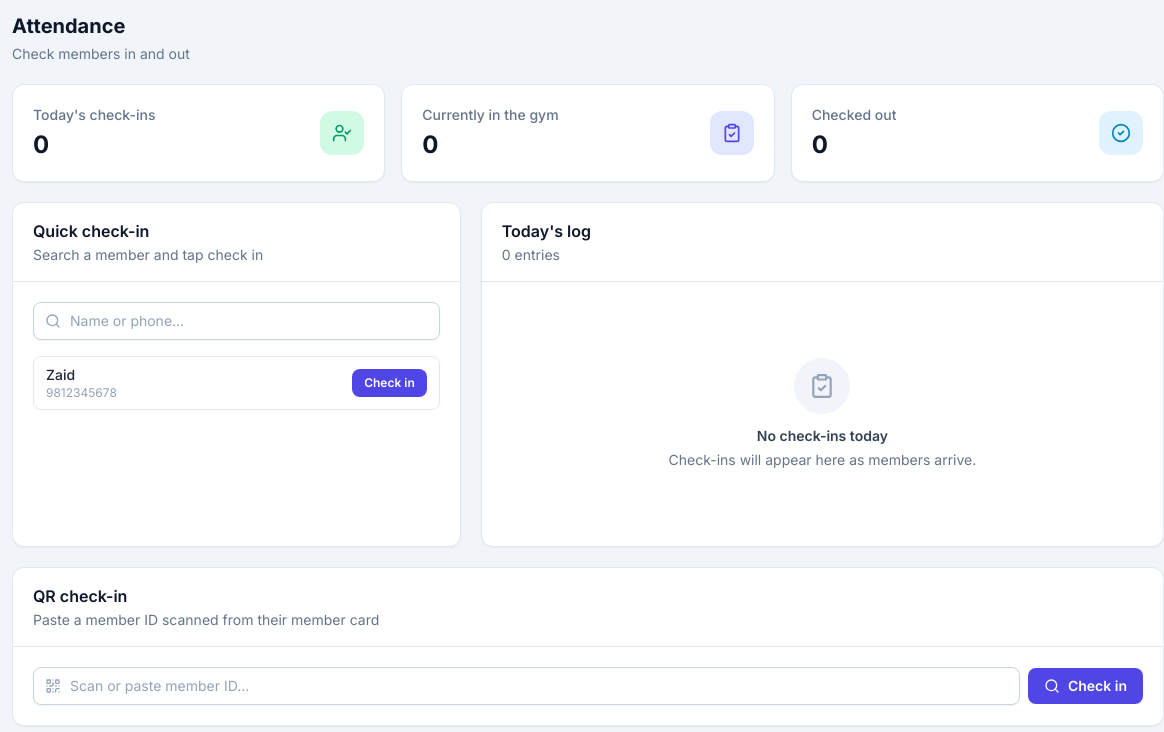
Scenario: Attendance check-in/check-out › attendance list refreshes from the realtime subscription after a check-in
The image size is (1164, 732).
Click the button "Check in" in the row of "9812345678".
click(390, 383)  # box [352,369,427,397]
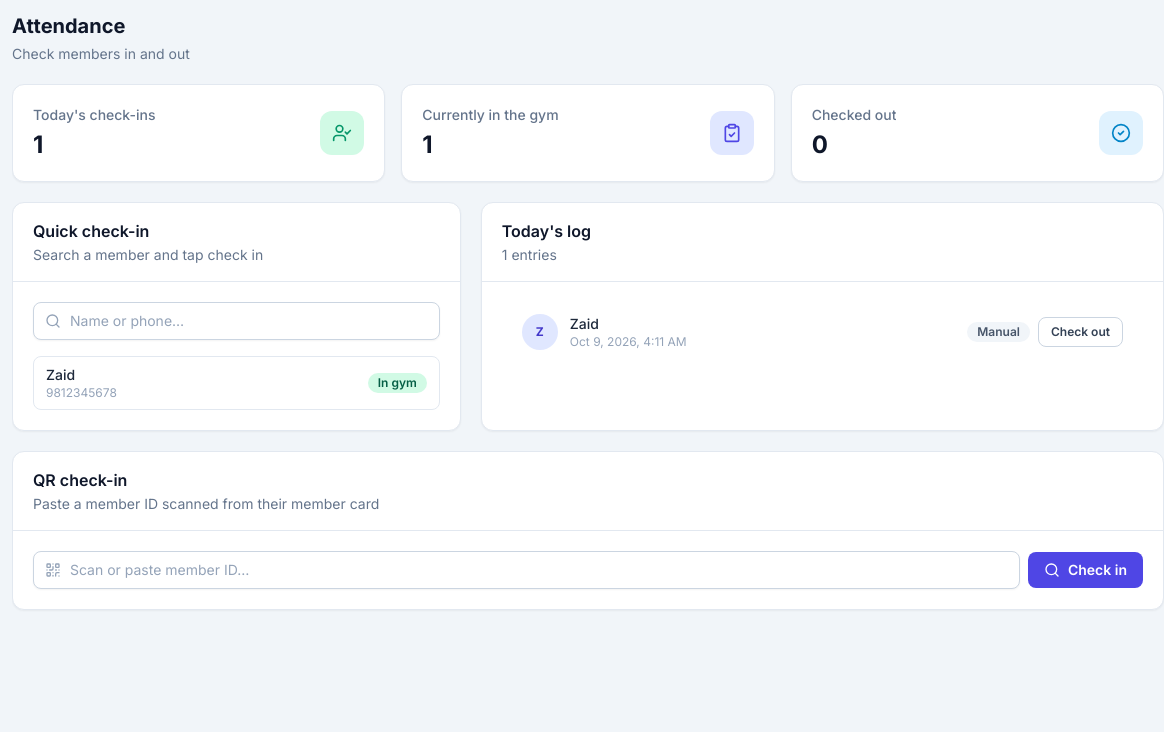
Now the text "In gym" is shown, box [368,373,427,393]
Now the button "Check out" is shown, box [1038,317,1123,347]
